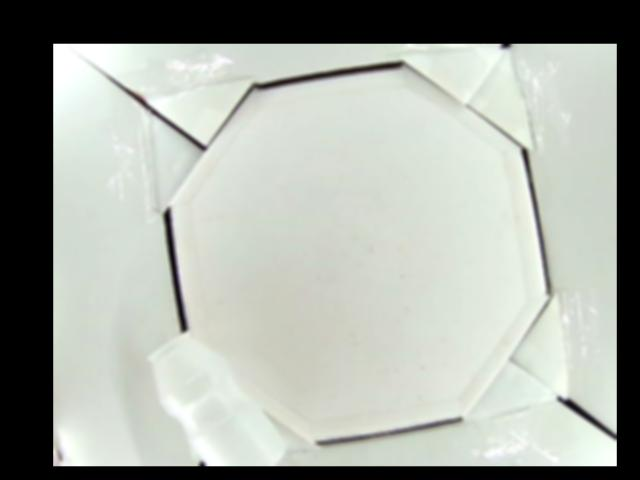Bottle: (144, 331, 289, 466)
